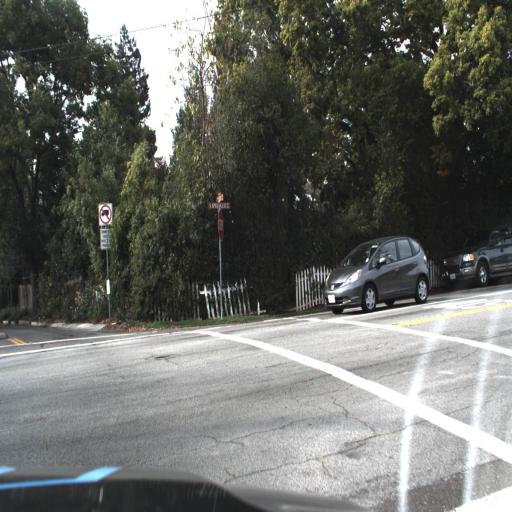car: (319, 228, 432, 311), (439, 224, 511, 291)
